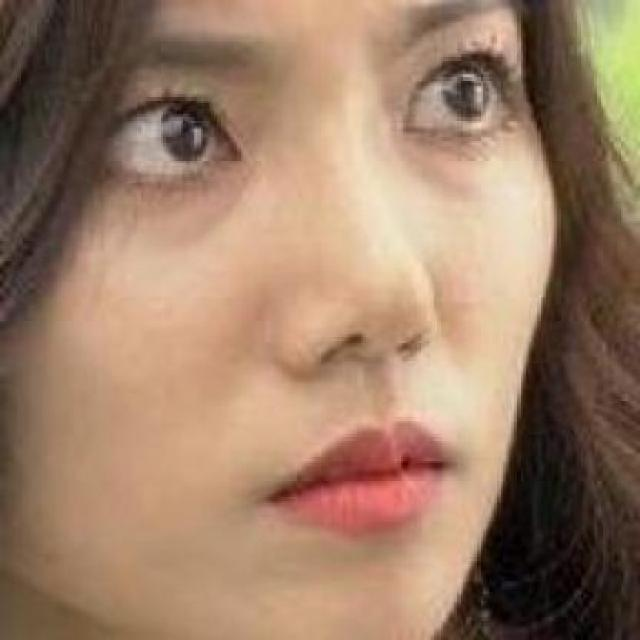angry: (48, 18, 590, 640)
